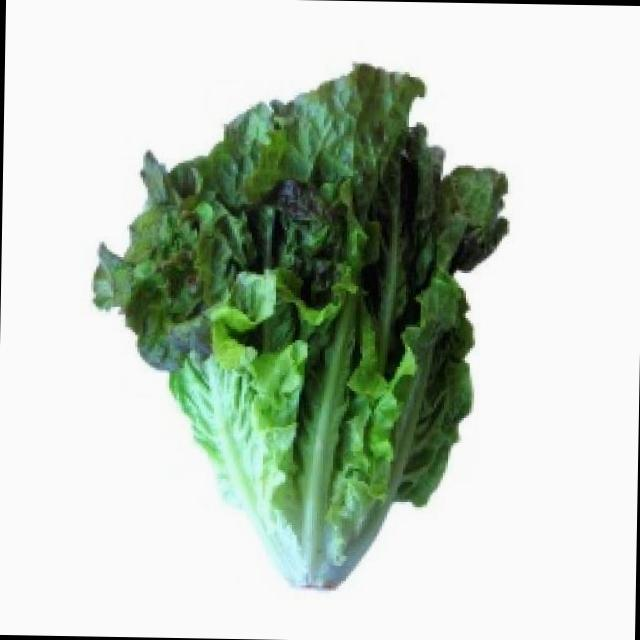Lettuce-Ready-to-Harvest: (95, 65, 507, 587)
